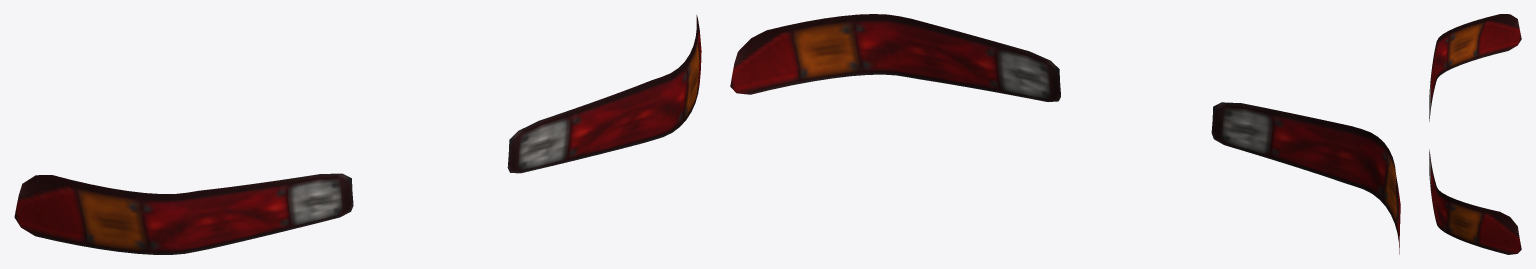
The model's file is liftback_95_lens_tail.obj.
The picture shows the model from 3 angles, left to right: view 1: azimuth 30°, elevation 25°; view 2: azimuth 150°, elevation 25°; view 3: azimuth 270°, elevation 25°; orthographic projection. The views are drawn at different scales.
Visible parts, largest first — view 1: liftback_95_lens_tail; view 2: liftback_95_lens_tail; view 3: liftback_95_lens_tail.
Part boxes in pixels (<box>): liftback_95_lens_tail: <box>14,15,701,254</box>; liftback_95_lens_tail: <box>730,14,1400,254</box>; liftback_95_lens_tail: <box>1429,14,1521,254</box>.
Bounding box in the file's own units: 1.52 × 0.1352 × 0.2828.
Materials: 1 (1 with a texture image).
